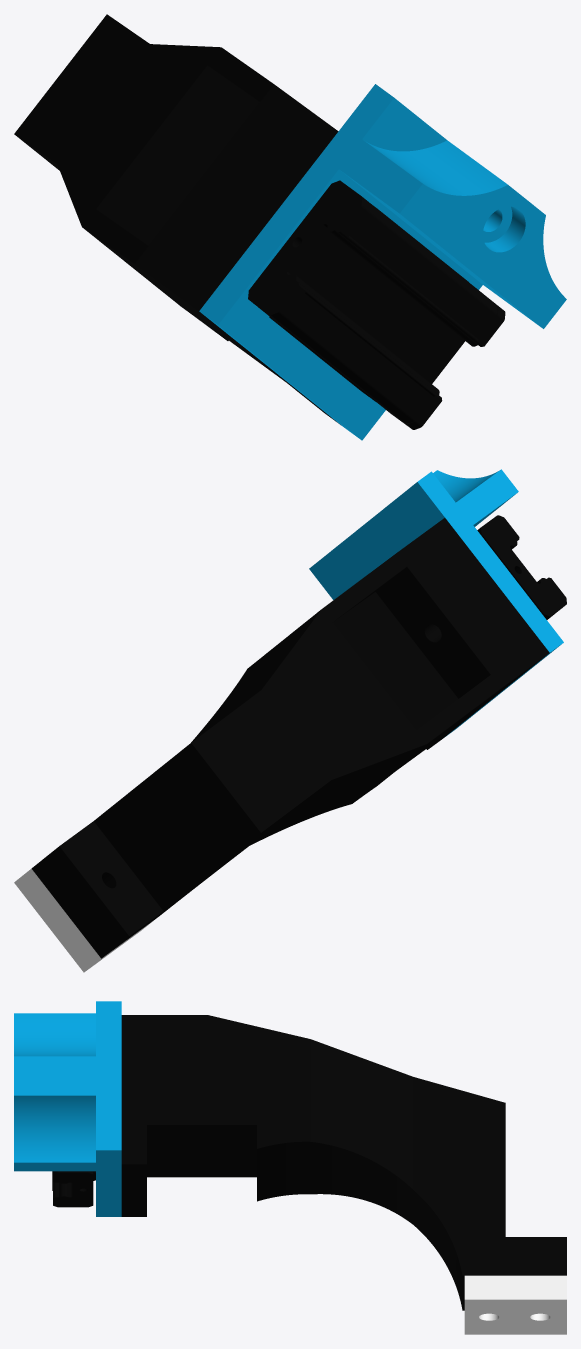
The model's file is Gripper1_link.glb.
3 views of the same model, one above another, from view 1: azimuth 30°, elevation 25°; view 2: azimuth 150°, elevation 25°; view 3: azimuth 270°, elevation 25° (orthographic). The views are drawn at different scales.
Parts seen in each view (by area): view 1: 15_Ĭￏ.001; view 2: 15_Ĭￏ.001; view 3: 15_Ĭￏ.001.
Part boxes in pixels (box(x1,y1,x2,y2)): 15_Ĭￏ.001: box(14, 14, 566, 440); 15_Ĭￏ.001: box(14, 469, 566, 972); 15_Ĭￏ.001: box(14, 1001, 566, 1334).
Size of the model in its own units: 0.0582 by 0.0638 by 0.108.
